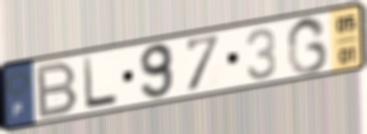3: (245, 26, 278, 82)
7: (184, 32, 223, 96)
9: (137, 41, 176, 102)
B: (35, 59, 81, 122)
G: (286, 15, 331, 76)
L: (81, 55, 120, 112)
